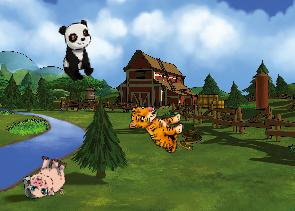panda: (57, 19, 97, 83)
pig: (24, 152, 71, 202)
tiger: (127, 103, 185, 153)
